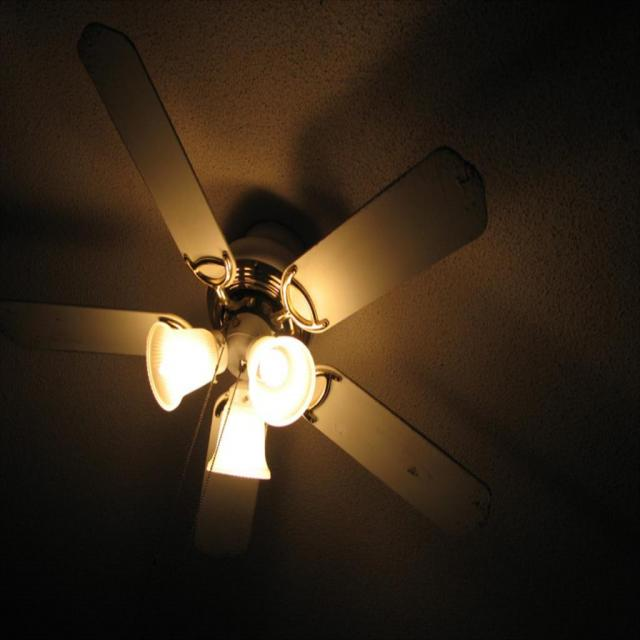Bulb: (0, 22, 492, 592)
